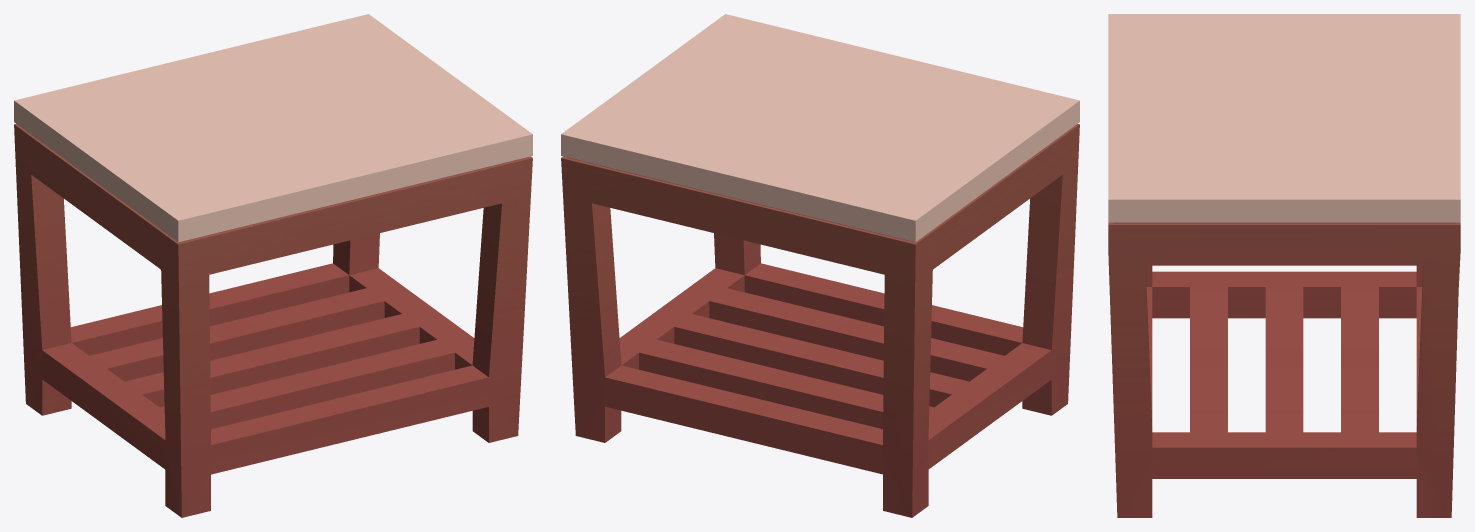
Rendered from SM_Table_Side_Sofa_1_01.fbx.
3 renders of one model, left to right at view 1: azimuth 30°, elevation 25°; view 2: azimuth 150°, elevation 25°; view 3: azimuth 270°, elevation 25°, orthographic. The views are drawn at different scales.
Parts seen in each view (by area): view 1: SM_Table_Side_Sofa_1_01; view 2: SM_Table_Side_Sofa_1_01; view 3: SM_Table_Side_Sofa_1_01.
Boxes of the visible parts, x1,y1,x2,y2 form: SM_Table_Side_Sofa_1_01: [14, 14, 532, 517]; SM_Table_Side_Sofa_1_01: [561, 14, 1079, 517]; SM_Table_Side_Sofa_1_01: [1108, 14, 1460, 517].
Bounding box in the file's own units: 81.79 × 66.59 × 65.65.
